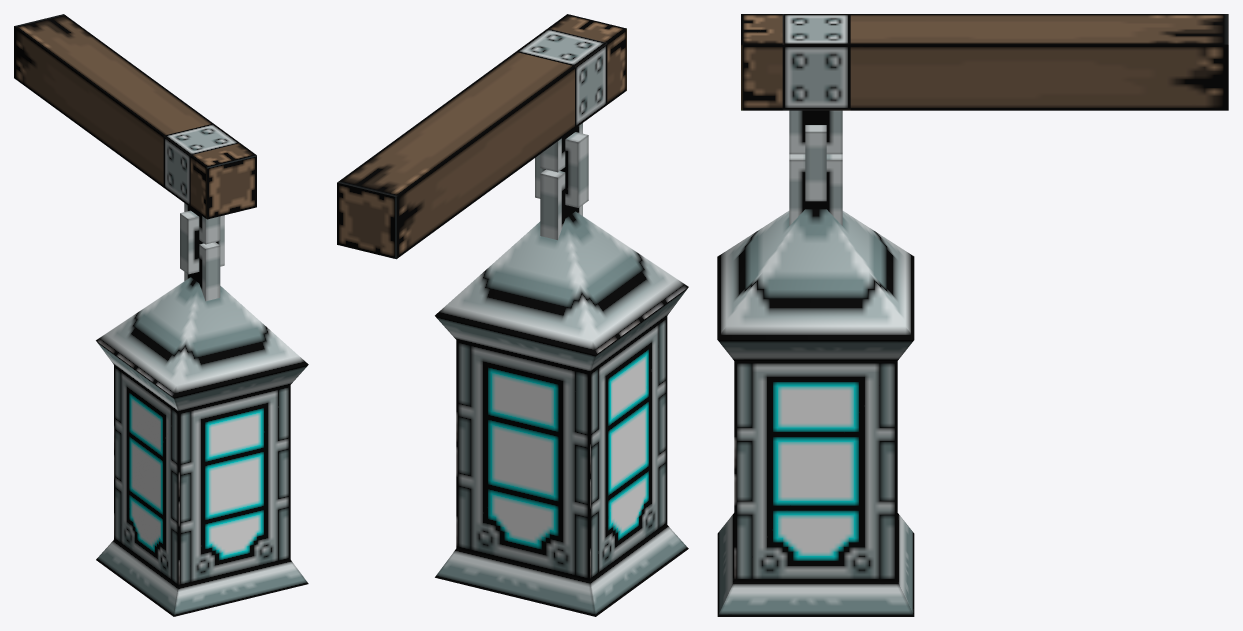
Rendered from deco_winter_lamp.FBX.
3 views of the same model, side by side, from view 1: azimuth 30°, elevation 25°; view 2: azimuth 150°, elevation 25°; view 3: azimuth 270°, elevation 25° (orthographic). The views are drawn at different scales.
Visible parts, largest first — view 1: deco_winter_lamp; view 2: deco_winter_lamp; view 3: deco_winter_lamp.
Boxes of the visible parts, x1,y1,x2,y2 form: deco_winter_lamp: (14,14,308,616); deco_winter_lamp: (337,14,688,616); deco_winter_lamp: (717,14,1228,616).
Bounding box in the file's own units: 0.5 × 1.53 × 1.3.
1 material, 1 textured.
